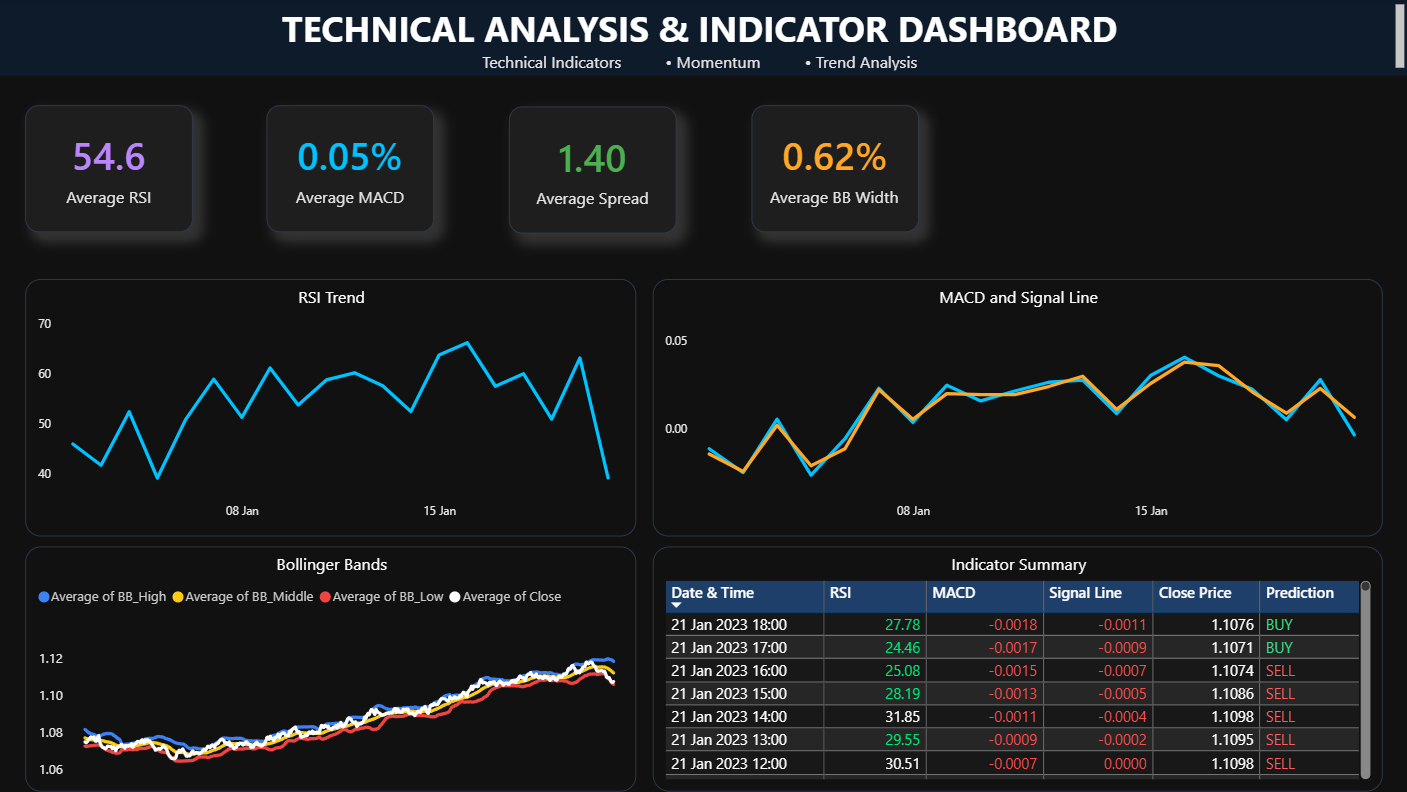

This screenshot's page, from the dashboard's own definition file:
{"tool":"powerbi","page":{"name":"Technical Indicators","canvas":[1280,720],"ordinal":1},"visuals":[{"type":"textbox","box":[0,0,1280.2,69.8],"z":0},{"type":"cardVisual","fields":{"Data":["trading_signals.Average RSI"]},"box":[23.3,96.5,152.3,115.1],"z":1000},{"type":"cardVisual","fields":{"Data":["trading_signals.Average MACD"]},"box":[243,96.5,152.3,115.1],"z":2000},{"type":"cardVisual","fields":{"Data":["trading_signals.Average Spread"]},"box":[462.8,97.7,152.3,115.1],"z":3000},{"type":"cardVisual","fields":{"Data":["trading_signals.Average BB Width"]},"box":[682.6,96.5,152.3,115.1],"z":4000},{"type":"lineChart","title":"RSI Trend","fields":{"Category":["trading_signals.DateTime.Variation.Date Hierarchy.Year","trading_signals.DateTime.Variation.Date Hierarchy.Quarter","trading_signals.DateTime.Variation.Date Hierarchy.Month","trading_signals.DateTime.Variation.Date Hierarchy.Day"],"Y":["Avg(trading_signals.RSI)"]},"box":[23.8,254.1,554.6,233.6],"z":5000},{"type":"lineChart","title":"MACD and Signal Line","fields":{"Category":["trading_signals.DateTime.Variation.Date Hierarchy.Year","trading_signals.DateTime.Variation.Date Hierarchy.Quarter","trading_signals.DateTime.Variation.Date Hierarchy.Month","trading_signals.DateTime.Variation.Date Hierarchy.Day"],"Y":["Sum(trading_signals.MACD)","Sum(trading_signals.MACD_Signal)"]},"box":[593.2,254.1,662.4,233.6],"z":6000},{"type":"lineChart","title":"Bollinger Bands","fields":{"Y":["Avg(trading_signals.BB_High)","Avg(trading_signals.BB_Middle)","Avg(trading_signals.BB_Low)","Avg(trading_signals.Close)"],"Category":["trading_signals.DateTime"]},"box":[23.3,496.5,554.7,222.1],"z":7000},{"type":"tableEx","title":"Indicator Summary","fields":{"Values":["trading_signals.Formatted DateTime","Sum(trading_signals.RSI)","Sum(trading_signals.MACD)","Sum(trading_signals.MACD_Signal)","Sum(trading_signals.Close)","trading_signals.Prediction label"]},"box":[593,496.5,662.8,222.1],"z":8000}]}

Visuals, with their boxes in screenshot pixels (x1, y1, x2, y2), scaled from the page's 1280x720 canvas onto the 1407x792 screenshot:
textbox: Rect(0, 0, 1406, 77)
cardVisual - trading_signals.Average RSI: Rect(26, 106, 193, 233)
cardVisual - trading_signals.Average MACD: Rect(267, 106, 435, 233)
cardVisual - trading_signals.Average Spread: Rect(509, 107, 676, 234)
cardVisual - trading_signals.Average BB Width: Rect(750, 106, 918, 233)
"RSI Trend" lineChart: Rect(26, 280, 636, 536)
"MACD and Signal Line" lineChart: Rect(652, 280, 1380, 536)
"Bollinger Bands" lineChart: Rect(26, 546, 635, 790)
"Indicator Summary" tableEx: Rect(652, 546, 1380, 790)
